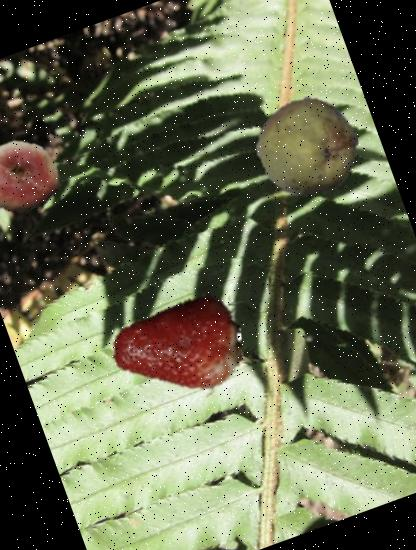Peach: (0, 130, 70, 226)
Pear: (242, 82, 373, 213)
Strawberry: (92, 260, 260, 428)
